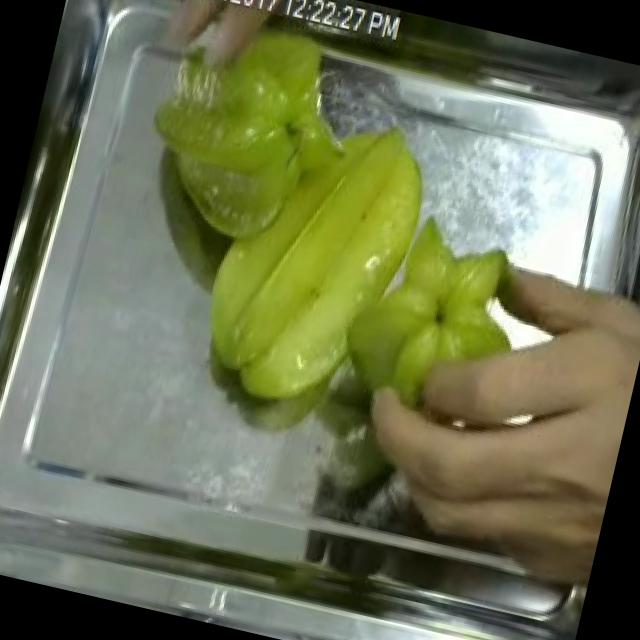fruit: (112, 0, 471, 293), (359, 225, 640, 476)
